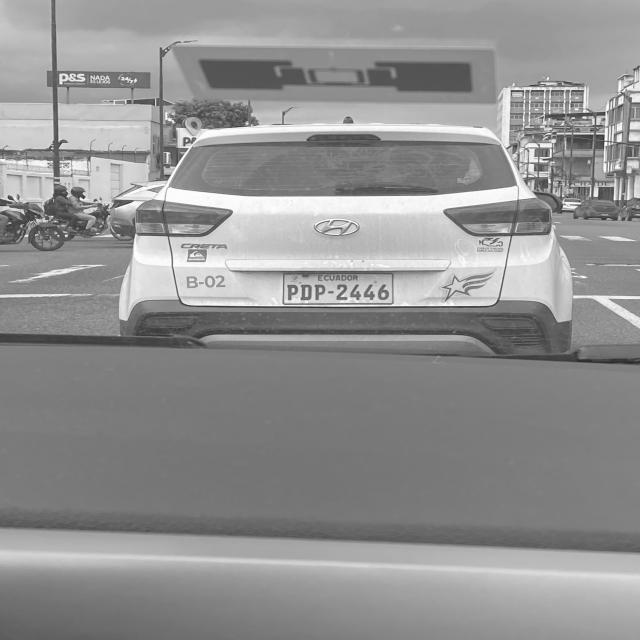Placa: (284, 273, 393, 305)
